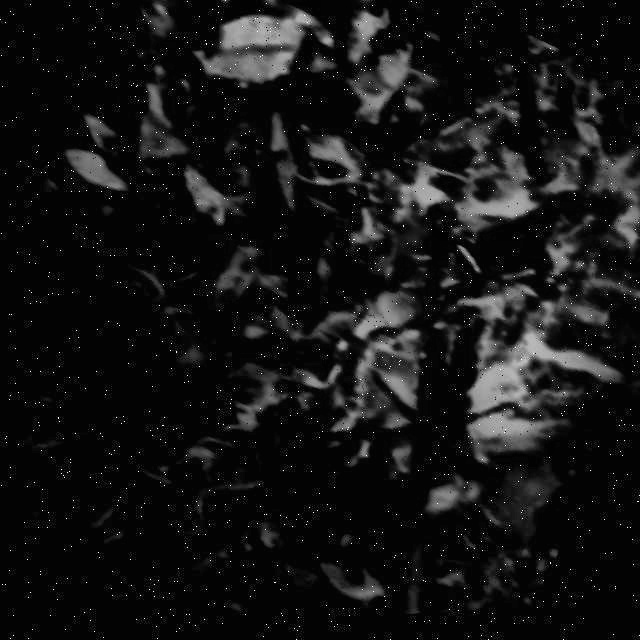Fire: (216, 1, 640, 584)
